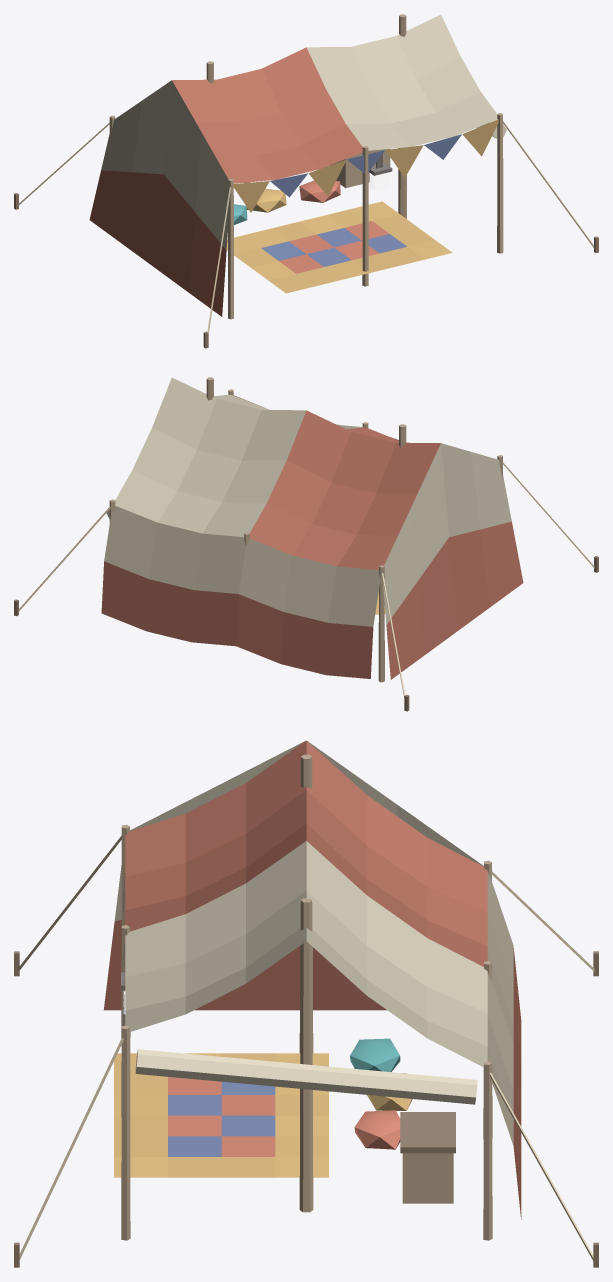
Rendered from tienda_a_ligero.glb.
3 renders of one model, top to bottom at view 1: azimuth 30°, elevation 25°; view 2: azimuth 150°, elevation 25°; view 3: azimuth 270°, elevation 25°, orthographic. The views are drawn at different scales.
Parts seen in each view (by area): view 1: tienda_a_tela, tienda_a; view 2: tienda_a_tela, tienda_a; view 3: tienda_a_tela, tienda_a.
Part boxes in pixels (x1,y1,x2,y2): tienda_a_tela: (89,14,498,316); tienda_a: (14,14,598,348); tienda_a_tela: (101,377,523,679); tienda_a: (14,377,598,711); tienda_a_tela: (104,740,521,1219); tienda_a: (14,754,598,1267).
Bounding box in the file's own units: 6.14 × 3.02 × 5.17.
